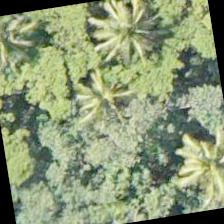Kelapa_Sawit: (54, 53, 157, 156), (79, 0, 181, 84), (158, 121, 223, 217), (0, 10, 50, 90)
